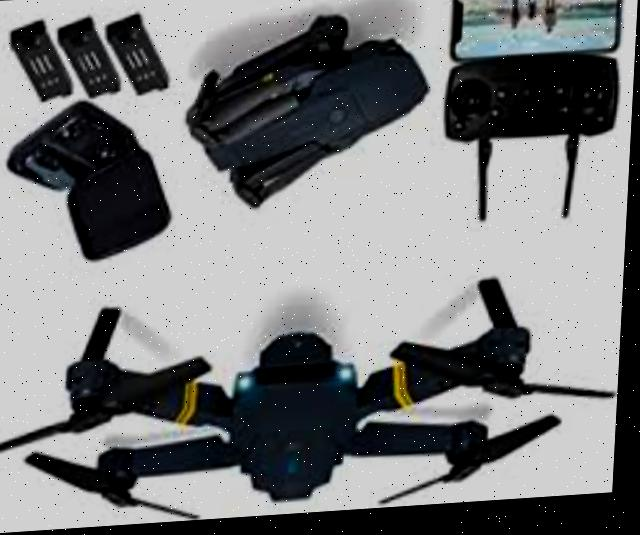drone: (0, 248, 623, 535)
